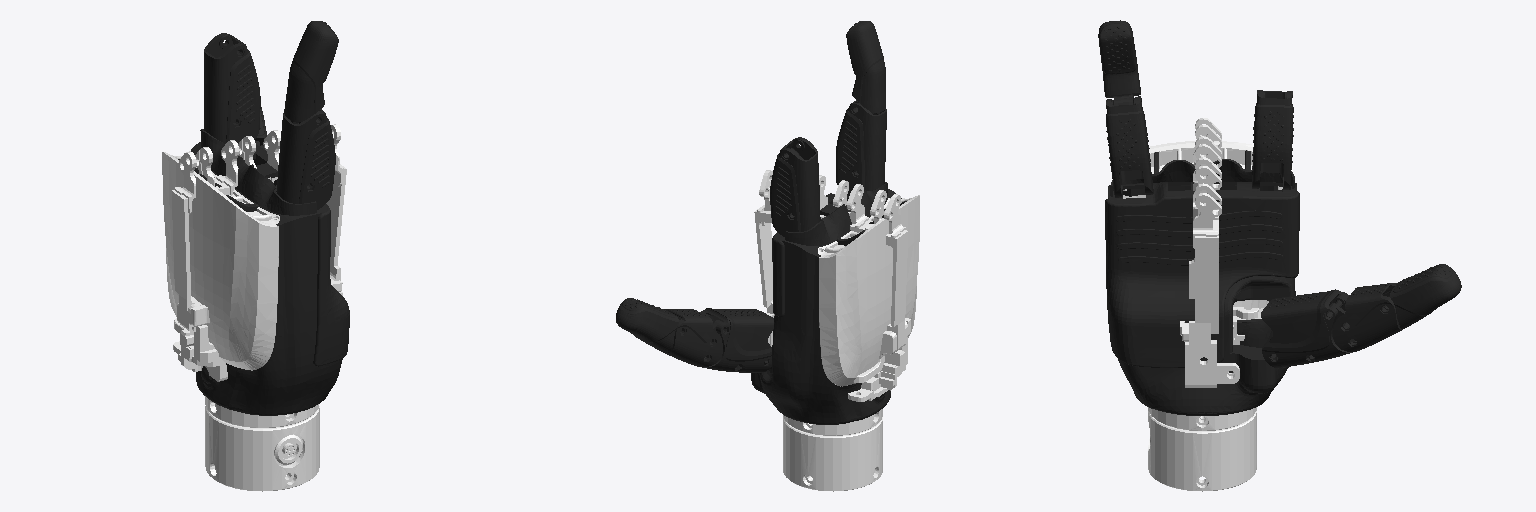
The robot description file, URDF, robot "urdf_right_2025_1_17":
<?xml version="1.0" encoding="utf-8"?>
<!-- This URDF was automatically created by SolidWorks to URDF Exporter! Originally created by [author] ([email redacted]) 
     Commit Version: 1.6.0-4-g7f85cfe  Build Version: 1.6.7995.38578
     For more information, please see http://wiki.ros.org/sw_urdf_exporter -->
<robot
  name="urdf_right_2025_1_17">
    
   <link name="world"/>

    <joint name="R_hand_base_joint" type="fixed">
      <origin
      xyz="0 0 0"
      rpy="0  0 1.57" />
      <parent link="world"/>
      <child link="base_link"/>
    </joint>
  
  <link
    name="base_link">
    <inertial>
      <origin
        xyz="9.62921407305015E-05 0.00262204660324472 0.0666239077412895"
        rpy="0 0 0" />
      <mass
        value="0.23261284481802" />
      <inertia
        ixx="0.00010719657305769"
        ixy="4.98904105628549E-08"
        ixz="1.65942672682969E-07"
        iyy="0.000125785887696862"
        iyz="6.18360205695587E-07"
        izz="7.20741639349737E-05" />
    </inertial>
    <visual>
      <origin
        xyz="0 0 0"
        rpy="0 0 1.5708" />
      <geometry>
        <mesh
          filename="meshes/base_link.STL" />
      </geometry>
      <material
        name="">
        <color
          rgba="1 1 1 1" />
      </material>
    </visual>
    <collision>
      <origin
        xyz="0 0 0"
        rpy="0 0 0" />
      <geometry>
        <mesh
          filename="meshes/base_link.STL" />
      </geometry>
    </collision>
  </link>
  <link
    name="palm_Link">
    <inertial>
      <origin
        xyz="-0.000661496838494929 -0.00378363461030504 0.0404053257667788"
        rpy="0 0 0" />
      <mass
        value="0.0616740943156661" />
      <inertia
        ixx="9.02234284044049E-05"
        ixy="-7.52035206367693E-07"
        ixz="-1.81527672613384E-07"
        iyy="0.000119835554392946"
        iyz="6.85982189845744E-07"
        izz="5.63162281121666E-05" />
    </inertial>
    <visual>
      <origin
        xyz="0 0 0"
        rpy="0 0 0" />
      <geometry>
        <mesh
          filename="meshes/palm_Link.STL" />
      </geometry>
      <material
        name="">
        <color
          rgba="0.203921568627451 0.203921568627451 0.203921568627451 1" />
      </material>
    </visual>
    <collision>
      <origin
        xyz="0 0 0"
        rpy="0 0 0" />
      <geometry>
        <mesh
          filename="meshes/palm_Link.STL" />
      </geometry>
    </collision>
  </link>
  <joint
    name="palm_joint"
    type="fixed">
    <origin
      xyz="0 0 0.041"
      rpy="0 0 0" />
    <parent
      link="base_link" />
    <child
      link="palm_Link" />
    <axis
      xyz="0 0 0" />
    <limit
      lower="0"
      upper="1"
      effort="10"
      velocity="1" />
  </joint>
  <link
    name="palm_Link_1">
    <inertial>
      <origin
        xyz="0.000149938688307653 0.0279105261145783 0.0720737640641802"
        rpy="0 0 0" />
      <mass
        value="0.0205062598958518" />
      <inertia
        ixx="1.30379631143874E-05"
        ixy="-3.11740315409138E-08"
        ixz="-1.28300697126532E-07"
        iyy="2.4589390333793E-05"
        iyz="-4.04271597240776E-08"
        izz="1.28007163171183E-05" />
    </inertial>
    <visual>
      <origin
        xyz="0 0 0"
        rpy="0 0 0" />
      <geometry>
        <mesh
          filename="meshes/palm_Link_1.STL" />
      </geometry>
      <material
        name="">
        <color
          rgba="1 1 1 1" />
      </material>
    </visual>
    <collision>
      <origin
        xyz="0 0 0"
        rpy="0 0 0" />
      <geometry>
        <mesh
          filename="meshes/palm_Link_1.STL" />
      </geometry>
    </collision>
  </link>
  <joint
    name="palm_joint_1"
    type="fixed">
    <origin
      xyz="0 0 0"
      rpy="0 0 0" />
    <parent
      link="palm_Link" />
    <child
      link="palm_Link_1" />
    <axis
      xyz="0 0 0" />
    <limit
      lower="0"
      upper="1"
      effort="10"
      velocity="1" />
  </joint>
  <link
    name="right_thumb_1">
    <inertial>
      <origin
        xyz="-0.00178423179132727 0.000649410769092446 0.00488589310434408"
        rpy="0 0 0" />
      <mass
        value="0.00115518743162309" />
      <inertia
        ixx="5.98911473694571E-08"
        ixy="-8.04324266712912E-09"
        ixz="-3.29346964287939E-09"
        iyy="4.07201940087006E-08"
        iyz="1.19872422599729E-09"
        izz="6.18161684388651E-08" />
    </inertial>
    <visual>
      <origin
        xyz="0 0 0"
        rpy="0 0 0" />
      <geometry>
        <mesh
          filename="meshes/right_thumb_1.STL" />
      </geometry>
      <material
        name="">
        <color
          rgba="0.203921568627451 0.203921568627451 0.203921568627451 1" />
      </material>
    </visual>
    <collision>
      <origin
        xyz="0 0 0"
        rpy="0 0 0" />
      <geometry>
        <mesh
          filename="meshes/right_thumb_1.STL" />
      </geometry>
    </collision>
  </link>
  <joint
    name="right_thumb_1_joint"
    type="revolute">
    <origin
      xyz="0.0269 -0.02101 0.069"
      rpy="0 0 3.1416" />
    <parent
      link="base_link" />
    <child
      link="right_thumb_1" />
    <axis
      xyz="0 0 -1" />
    <limit
      lower="0"
      upper="1.15"
      effort="10"
      velocity="1" />
  </joint>
  <link
    name="right_thumb_2">
    <inertial>
      <origin
        xyz="0.0141071308121226 0.013272036724676 -0.00905029680055887"
        rpy="0 0 0" />
      <mass
        value="0.00645039655638212" />
      <inertia
        ixx="1.06573287501608E-06"
        ixy="-7.61985755293294E-08"
        ixz="-2.57609628655293E-11"
        iyy="1.06536320559038E-06"
        iyz="5.09603163265796E-12"
        izz="1.39688473195303E-06" />
    </inertial>
    <visual>
      <origin
        xyz="0 0 0"
        rpy="0 0 0" />
      <geometry>
        <mesh
          filename="meshes/right_thumb_2.STL" />
      </geometry>
      <material
        name="">
        <color
          rgba="0.203921568627451 0.203921568627451 0.203921568627451 1" />
      </material>
    </visual>
    <collision>
      <origin
        xyz="0 0 0"
        rpy="0 0 0" />
      <geometry>
        <mesh
          filename="meshes/right_thumb_2.STL" />
      </geometry>
    </collision>
  </link>
  <joint
    name="right_thumb_2_joint"
    type="revolute">
    <origin
      xyz="-0.0063016 0.011924 0.003"
      rpy="1.5708 0 2.7925" />
    <parent
      link="right_thumb_1" />
    <child
      link="right_thumb_2" />
    <axis
      xyz="0 0 1" />
    <limit
      lower="0"
      upper="0.55"
      effort="10"
      velocity="1" />
  </joint>
  <link
    name="right_thumb_3">
    <inertial>
      <origin
        xyz="0.00937843602203413 0.00404407714691039 -0.00753947150343093"
        rpy="0 0 0" />
      <mass
        value="0.00397613163368522" />
      <inertia
        ixx="4.67837152048068E-07"
        ixy="-4.50034504480503E-08"
        ixz="-7.50604972036929E-11"
        iyy="3.98821847444202E-07"
        iyz="-2.80308780973001E-10"
        izz="4.24792779381109E-07" />
    </inertial>
    <visual>
      <origin
        xyz="0 0 0"
        rpy="0 0 0" />
      <geometry>
        <mesh
          filename="meshes/right_thumb_3.STL" />
      </geometry>
      <material
        name="">
        <color
          rgba="0.203921568627451 0.203921568627451 0.203921568627451 1" />
      </material>
    </visual>
    <collision>
      <origin
        xyz="0 0 0"
        rpy="0 0 0" />
      <geometry>
        <mesh
          filename="meshes/right_thumb_3.STL" />
      </geometry>
    </collision>
  </link>
  <joint
    name="right_thumb_3_joint"
    type="revolute">
    <origin
      xyz="0.034968 0.021325 -0.0015"
      rpy="0 0 0" />
    <parent
      link="right_thumb_2" />
    <child
      link="right_thumb_3" />
    <axis
      xyz="0 0 1" />
    <limit
      lower="0"
      upper="3.14"
      effort="10"
      velocity="1" />
    <mimic
        joint="right_thumb_2_joint"
        multiplier="0.60"
        offset="0" />
  </joint>
  <link
    name="right_thumb_4">
    <inertial>
      <origin
        xyz="0.0159973997212307 0.00631062737518365 -0.00734351960006431"
        rpy="0 0 0" />
      <mass
        value="0.00913037649601557" />
      <inertia
        ixx="6.43617695804108E-07"
        ixy="-2.57371067432159E-07"
        ixz="8.83834214745037E-10"
        iyy="7.63665185138253E-07"
        iyz="7.47494238463698E-10"
        izz="9.2568863295396E-07" />
    </inertial>
    <visual>
      <origin
        xyz="0 0 0"
        rpy="0 0 0" />
      <geometry>
        <mesh
          filename="meshes/right_thumb_4.STL" />
      </geometry>
      <material
        name="">
        <color
          rgba="0.203921568627451 0.203921568627451 0.203921568627451 1" />
      </material>
    </visual>
    <collision>
      <origin
        xyz="0 0 0"
        rpy="0 0 0" />
      <geometry>
        <mesh
          filename="meshes/right_thumb_4.STL" />
      </geometry>
    </collision>
  </link>
  <joint
    name="right_thumb_4_joint"
    type="revolute">
    <origin
      xyz="0.018887 0.011501 -0.0002"
      rpy="0 0 0" />
    <parent
      link="right_thumb_3" />
    <child
      link="right_thumb_4" />
    <axis
      xyz="0 0 1" />
    <limit
      lower="0"
      upper="3.14"
      effort="10"
      velocity="1" />
    <mimic
        joint="right_thumb_2_joint"
        multiplier="0.8"
        offset="0" />
  </joint>
  <link
    name="right_index_1">
    <inertial>
      <origin
        xyz="-0.00228223950894918 0.0122805744852154 -0.00664923561715198"
        rpy="0 0 0" />
      <mass
        value="0.00719999500023672" />
      <inertia
        ixx="1.27972191137725E-06"
        ixy="6.75652118279855E-08"
        ixz="-6.05922392480793E-12"
        iyy="5.83460205387825E-07"
        iyz="6.3281575035469E-11"
        izz="1.32923668958025E-06" />
    </inertial>
    <visual>
      <origin
        xyz="0 0 0"
        rpy="0 0 0" />
      <geometry>
        <mesh
          filename="meshes/right_index_1.STL" />
      </geometry>
      <material
        name="">
        <color
          rgba="0.203921568627451 0.203921568627451 0.203921568627451 1" />
      </material>
    </visual>
    <collision>
      <origin
        xyz="0 0 0"
        rpy="0 0 0" />
      <geometry>
        <mesh
          filename="meshes/right_index_1.STL" />
      </geometry>
    </collision>
  </link>
  <joint
    name="right_index_1_joint"
    type="revolute">
    <origin
      xyz="0.038679 -0.00056467 0.1564"
      rpy="1.6057 0 1.5708" />
    <parent
      link="base_link" />
    <child
      link="right_index_1" />
    <axis
      xyz="0 0 1" />
    <limit
      lower="0"
      upper="1.6"
      effort="10"
      velocity="1" />
  </joint>
  <link
    name="right_index_2">
    <inertial>
      <origin
        xyz="0.000405081333757523 0.0257028144574507 -0.00609275635614526"
        rpy="0 0 0" />
      <mass
        value="0.00968594225604788" />
      <inertia
        ixx="2.25513840061016E-06"
        ixy="4.11239570060264E-07"
        ixz="-3.94507944191637E-10"
        iyy="3.91290900614712E-07"
        iyz="2.79709415261061E-09"
        izz="2.30200486416195E-06" />
    </inertial>
    <visual>
      <origin
        xyz="0 0 0"
        rpy="0 0 0" />
      <geometry>
        <mesh
          filename="meshes/right_index_2.STL" />
      </geometry>
      <material
        name="">
        <color
          rgba="0.203921568627451 0.203921568627451 0.203921568627451 1" />
      </material>
    </visual>
    <collision>
      <origin
        xyz="0 0 0"
        rpy="0 0 0" />
      <geometry>
        <mesh
          filename="meshes/right_index_2.STL" />
      </geometry>
    </collision>
  </link>
  <joint
    name="right_index_2_joint"
    type="revolute">
    <origin
      xyz="-0.002817 0.032654 -0.00055"
      rpy="0 0 0" />
    <parent
      link="right_index_1" />
    <child
      link="right_index_2" />
    <axis
      xyz="0 0 1" />
    <limit
      lower="0"
      upper="3.14"
      effort="10"
      velocity="1" />
    <mimic
        joint="right_index_1_joint"
        multiplier="1.05"
        offset="0" />
  </joint>
  <link
    name="right_middle">
    <inertial>
      <origin
        xyz="-0.00229221489529491 0.0122787164691098 -0.00664923691414206"
        rpy="0 0 0" />
      <mass
        value="0.00719999454699651" />
      <inertia
        ixx="1.27961146095209E-06"
        ixy="6.81307502326406E-08"
        ixz="-6.13869092471566E-12"
        iyy="5.83570383259165E-07"
        iyz="6.33401074034764E-11"
        izz="1.32923656099557E-06" />
    </inertial>
    <visual>
      <origin
        xyz="0 0 0"
        rpy="0 0 0" />
      <geometry>
        <mesh
          filename="meshes/right_middle.STL" />
      </geometry>
      <material
        name="">
        <color
          rgba="0.203921568627451 0.203921568627451 0.203921568627451 1" />
      </material>
    </visual>
    <collision>
      <origin
        xyz="0 0 0"
        rpy="0 0 0" />
      <geometry>
        <mesh
          filename="meshes/right_middle.STL" />
      </geometry>
    </collision>
  </link>
  <joint
    name="right_middle_1_joint"
    type="revolute">
    <origin
      xyz="0.0171 -0.00056467 0.157"
      rpy="1.5708 0 1.5708" />
    <parent
      link="base_link" />
    <child
      link="right_middle" />
    <axis
      xyz="0 0 1" />
    <limit
      lower="0"
      upper="1.6"
      effort="1"
      velocity="100" />
  </joint>
  <link
    name="right_middle_2">
    <inertial>
      <origin
        xyz="7.55635061812504E-05 0.0274472409700489 -0.00610051225570537"
        rpy="0 0 0" />
      <mass
        value="0.0104603374357648" />
      <inertia
        ixx="2.75802690517233E-06"
        ixy="4.66354191789105E-07"
        ixz="-3.73412436067429E-12"
        iyy="4.22418749660047E-07"
        iyz="7.48571284682719E-11"
        izz="2.80694637912416E-06" />
    </inertial>
    <visual>
      <origin
        xyz="0 0 0"
        rpy="0 0 0" />
      <geometry>
        <mesh
          filename="meshes/right_middle_2.STL" />
      </geometry>
      <material
        name="">
        <color
          rgba="0.203921568627451 0.203921568627451 0.203921568627451 1" />
      </material>
    </visual>
    <collision>
      <origin
        xyz="0 0 0"
        rpy="0 0 0" />
      <geometry>
        <mesh
          filename="meshes/right_middle_2.STL" />
      </geometry>
    </collision>
  </link>
  <joint
    name="right_middle_2_joint"
    type="revolute">
    <origin
      xyz="-0.0028436 0.032651 -0.00055"
      rpy="0 0 0" />
    <parent
      link="right_middle" />
    <child
      link="right_middle_2" />
    <axis
      xyz="0 0 1" />
    <limit
      lower="0"
      upper="3.14"
      effort="1"
      velocity="100" />
    <mimic
        joint="right_middle_1_joint"
        multiplier="1.05"
        offset="0" />
  </joint>
  <link
    name="right_ring_1">
    <inertial>
      <origin
        xyz="-0.00240481178777661 0.0122571709475593 -0.00664923625225445"
        rpy="0 0 0" />
      <mass
        value="0.00719998997814135" />
      <inertia
        ixx="1.27830103769765E-06"
        ixy="7.45073064952646E-08"
        ixz="-6.73880804354227E-12"
        iyy="5.84879553082369E-07"
        iyz="6.33505850520369E-11"
        izz="1.32923557625193E-06" />
    </inertial>
    <visual>
      <origin
        xyz="0 0 0"
        rpy="0 0 0" />
      <geometry>
        <mesh
          filename="meshes/right_ring_1.STL" />
      </geometry>
      <material
        name="">
        <color
          rgba="0.203921568627451 0.203921568627451 0.203921568627451 1" />
      </material>
    </visual>
    <collision>
      <origin
        xyz="0 0 0"
        rpy="0 0 0" />
      <geometry>
        <mesh
          filename="meshes/right_ring_1.STL" />
      </geometry>
    </collision>
  </link>
  <joint
    name="right_ring_1_joint"
    type="revolute">
    <origin
      xyz="-0.0045302 -0.00056467 0.15683"
      rpy="1.5184 0 1.5708" />
    <parent
      link="base_link" />
    <child
      link="right_ring_1" />
    <axis
      xyz="0 0 1" />
    <limit
      lower="0"
      upper="1.6"
      effort="10"
      velocity="1" />
  </joint>
  <link
    name="right_ring_2">
    <inertial>
      <origin
        xyz="0.000666830906754845 0.0256973412492289 -0.0060927714564012"
        rpy="0 0 0" />
      <mass
        value="0.0096859390369724" />
      <inertia
        ixx="2.26332196405867E-06"
        ixy="3.92172318180451E-07"
        ixz="-3.6571544042071E-10"
        iyy="3.83108005467821E-07"
        iyz="2.80158649618187E-09"
        izz="2.30200501593561E-06" />
    </inertial>
    <visual>
      <origin
        xyz="0 0 0"
        rpy="0 0 0" />
      <geometry>
        <mesh
          filename="meshes/right_ring_2.STL" />
      </geometry>
      <material
        name="">
        <color
          rgba="0.203921568627451 0.203921568627451 0.203921568627451 1" />
      </material>
    </visual>
    <collision>
      <origin
        xyz="0 0 0"
        rpy="0 0 0" />
      <geometry>
        <mesh
          filename="meshes/right_ring_2.STL" />
      </geometry>
    </collision>
  </link>
  <joint
    name="right_ring_2_joint"
    type="revolute">
    <origin
      xyz="-0.0031431 0.032624 -0.00055"
      rpy="0 0 0" />
    <parent
      link="right_ring_1" />
    <child
      link="right_ring_2" />
    <axis
      xyz="0 0 1" />
    <limit
      lower="0"
      upper="3.14"
      effort="10"
      velocity="1" />
    <mimic
        joint="right_ring_1_joint"
        multiplier="1.05"
        offset="0" />
  </joint>
  <link
    name="right_little_1">
    <inertial>
      <origin
        xyz="-0.00232893365325346 0.0122718105314716 -0.00664923191534179"
        rpy="0 0 0" />
      <mass
        value="0.00719999323057743" />
      <inertia
        ixx="1.27919761097102E-06"
        ixy="7.02115784565391E-08"
        ixz="-6.243226865727E-12"
        iyy="5.83984396985745E-07"
        iyz="6.31578908783105E-11"
        izz="1.32923638925969E-06" />
    </inertial>
    <visual>
      <origin
        xyz="0 0 0"
        rpy="0 0 0" />
      <geometry>
        <mesh
          filename="meshes/right_little_1.STL" />
      </geometry>
      <material
        name="">
        <color
          rgba="0.203921568627451 0.203921568627451 0.203921568627451 1" />
      </material>
    </visual>
    <collision>
      <origin
        xyz="0 0 0"
        rpy="0 0 0" />
      <geometry>
        <mesh
          filename="meshes/right_little_1.STL" />
      </geometry>
    </collision>
  </link>
  <joint
    name="right_little_1_joint"
    type="revolute">
    <origin
      xyz="-0.025916 -0.00056467 0.15365"
      rpy="1.4661 0 1.5708" />
    <parent
      link="base_link" />
    <child
      link="right_little_1" />
    <axis
      xyz="0 0 1" />
    <limit
      lower="0"
      upper="1.6"
      effort="1"
      velocity="100" />
  </joint>
  <link
    name="right_little_2">
    <inertial>
      <origin
        xyz="0.00160931492359033 0.0209120615208183 -0.00610003894171886"
        rpy="0 0 0" />
      <mass
        value="0.00759283159700144" />
      <inertia
        ixx="1.23228349635539E-06"
        ixy="2.22877215949825E-07"
        ixz="4.69505975018065E-12"
        iyy="2.75902655754916E-07"
        iyz="2.40449146255173E-11"
        izz="1.23909532768127E-06" />
    </inertial>
    <visual>
      <origin
        xyz="0 0 0"
        rpy="0 0 0" />
      <geometry>
        <mesh
          filename="meshes/right_little_2.STL" />
      </geometry>
      <material
        name="">
        <color
          rgba="0.203921568627451 0.203921568627451 0.203921568627451 1" />
      </material>
    </visual>
    <collision>
      <origin
        xyz="0 0 0"
        rpy="0 0 0" />
      <geometry>
        <mesh
          filename="meshes/right_little_2.STL" />
      </geometry>
    </collision>
  </link>
  <joint
    name="right_little_2_joint"
    type="revolute">
    <origin
      xyz="-0.0029412 0.032643 -0.00055"
      rpy="0 0 0" />
    <parent
      link="right_little_1" />
    <child
      link="right_little_2" />
    <axis
      xyz="0 0 1" />
    <limit
      lower="0"
      upper="3.14"
      effort="1"
      velocity="100" />
    <mimic
        joint="right_little_1_joint"
        multiplier="1.05"
        offset="0" />  
  </joint>
</robot>

--- Facts derived from the render (not from the file) ---
3 views of the same robot in one strip: view 1: azimuth 30°, elevation 25°; view 2: azimuth 150°, elevation 25°; view 3: azimuth 270°, elevation 25° (orthographic).
Model urdf_right_2025_1_17 with 16 links and 15 joints (12 revolute, 3 fixed), rooted at world, posed every joint at zero.
Visible links, largest first — view 1: palm_Link, base_link, palm_Link_1, right_index_1, right_little_1, right_little_2; view 2: base_link, palm_Link, palm_Link_1, right_index_1, right_little_1, right_thumb_2, right_little_2, right_thumb_3, right_thumb_4; view 3: palm_Link, base_link, right_thumb_2, right_index_1, right_little_1, right_thumb_3, right_little_2, right_thumb_4, palm_Link_1.
Link boxes in pixels (left/top/right/bottom): palm_Link: left=178, top=129, right=349, bottom=415; base_link: left=172, top=124, right=346, bottom=491; palm_Link_1: left=162, top=152, right=279, bottom=370; right_index_1: left=204, top=33, right=260, bottom=143; right_little_1: left=277, top=109, right=335, bottom=209; right_little_2: left=284, top=21, right=338, bottom=124; base_link: left=754, top=170, right=910, bottom=491; palm_Link: left=751, top=182, right=906, bottom=424; palm_Link_1: left=818, top=195, right=919, bottom=386; right_index_1: left=770, top=137, right=820, bottom=236; right_little_1: left=836, top=100, right=886, bottom=195; right_thumb_2: left=701, top=308, right=773, bottom=372; right_little_2: left=846, top=21, right=885, bottom=114; right_thumb_3: left=663, top=309, right=722, bottom=366; right_thumb_4: left=616, top=298, right=678, bottom=352; palm_Link: left=1105, top=150, right=1299, bottom=415; base_link: left=1148, top=118, right=1258, bottom=491; right_thumb_2: left=1261, top=289, right=1356, bottom=367; right_index_1: left=1252, top=90, right=1293, bottom=189; right_little_1: left=1106, top=96, right=1153, bottom=197; right_thumb_3: left=1333, top=283, right=1402, bottom=351; right_little_2: left=1098, top=20, right=1140, bottom=106; right_thumb_4: left=1384, top=264, right=1461, bottom=328; palm_Link_1: left=1112, top=141, right=1292, bottom=319.
Bounding box of the posed robot: 0.102 × 0.1666 × 0.2291 m (x, y, z).
Meshes: 15 distinct files referenced, 9 mesh visuals loaded (9 binary STL); not drawn: 6 (reference not matched to a file when rendering).